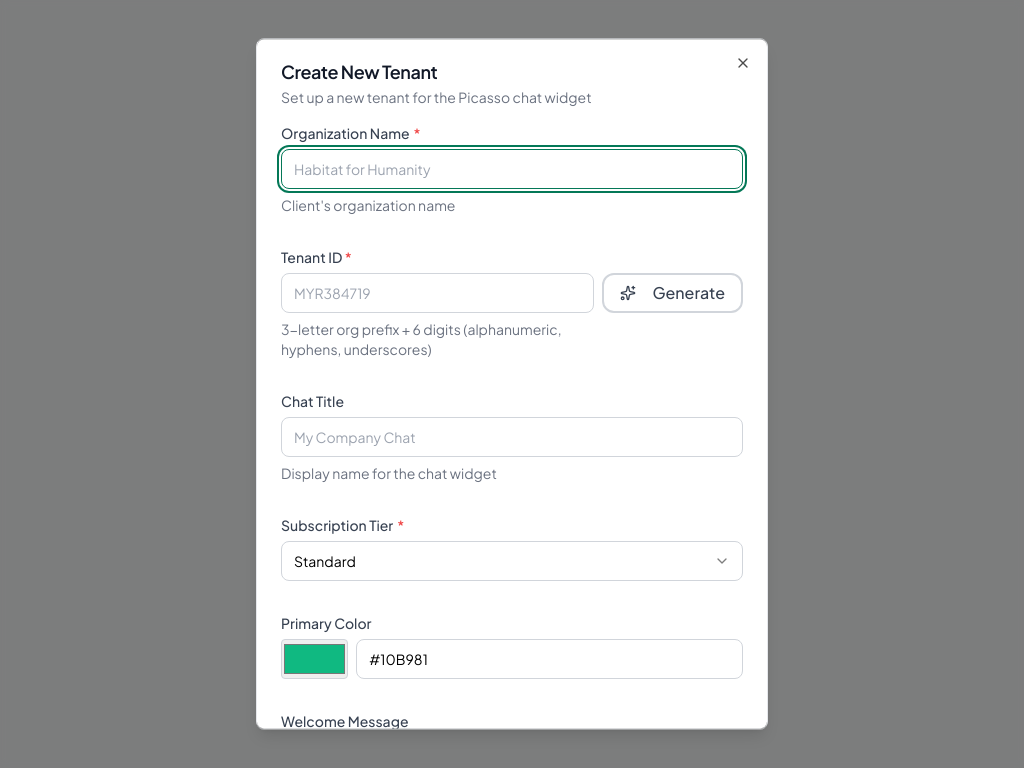
Test case: CreateTenantModal › submits form with valid data
Type "Test Org" into the field labelled "Organization Name*".
click(512, 169); type("Test Org")  # box [281,149,743,189]
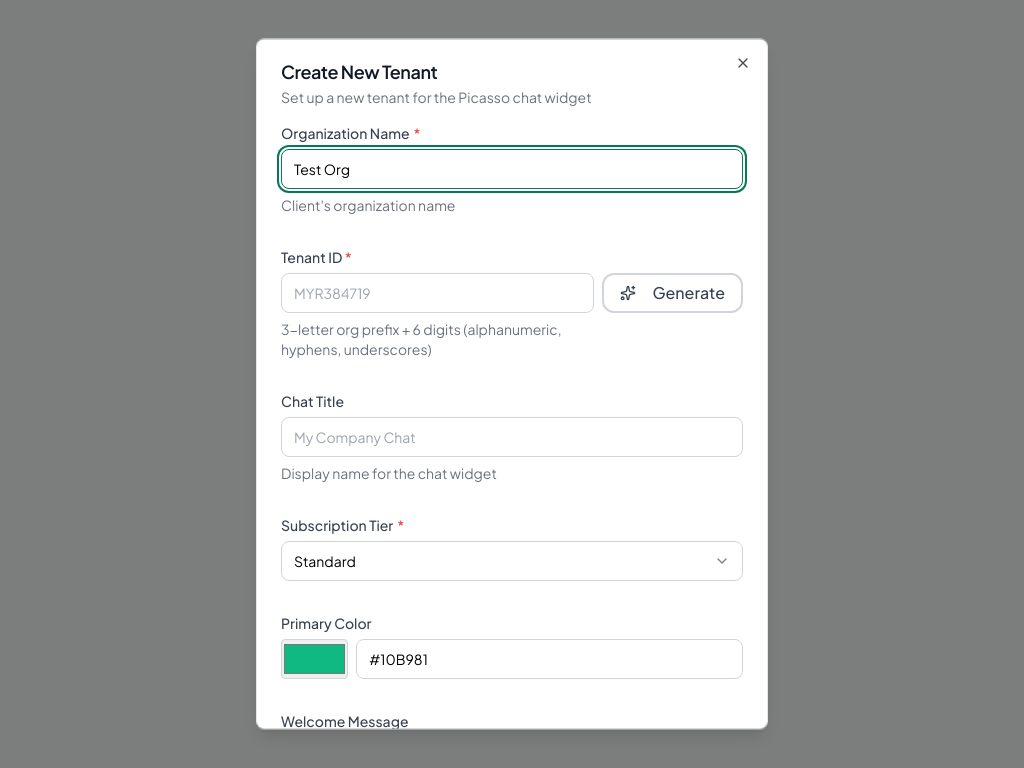
Type "test-tenant" into the field labelled "Tenant ID *".
click(438, 293); type("test-tenant")  # box [281,273,594,313]
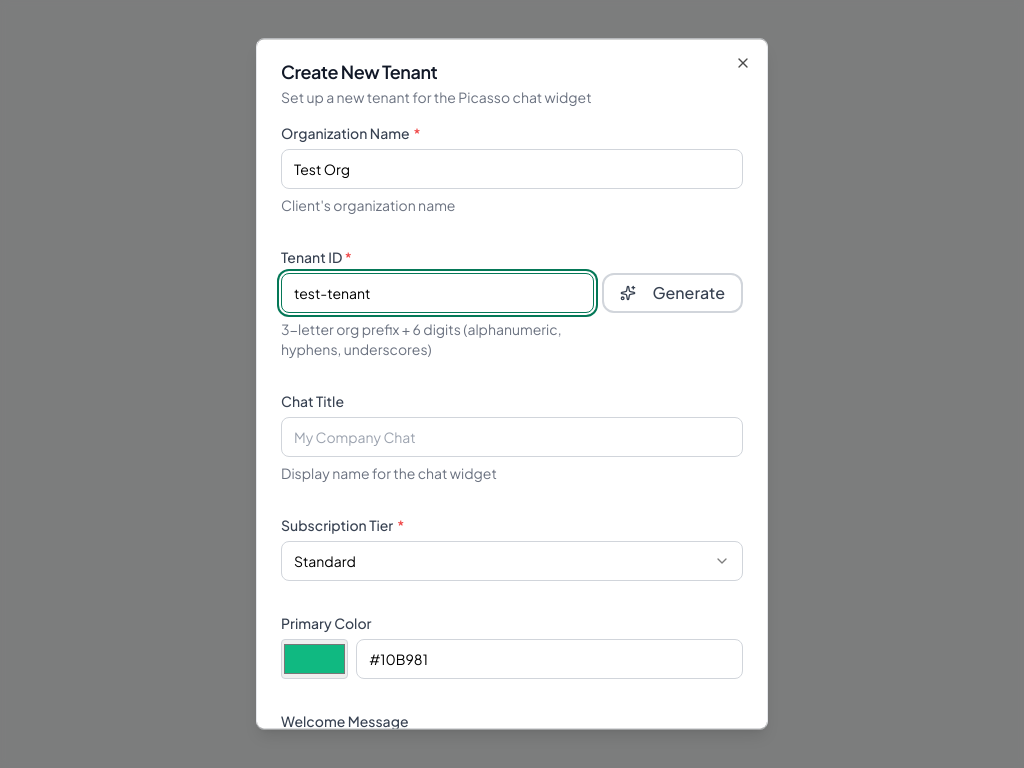
Type "Test Chat" into the field labelled "Chat Title".
click(512, 437); type("Test Chat")  # box [281,417,743,457]
(page scrolled)
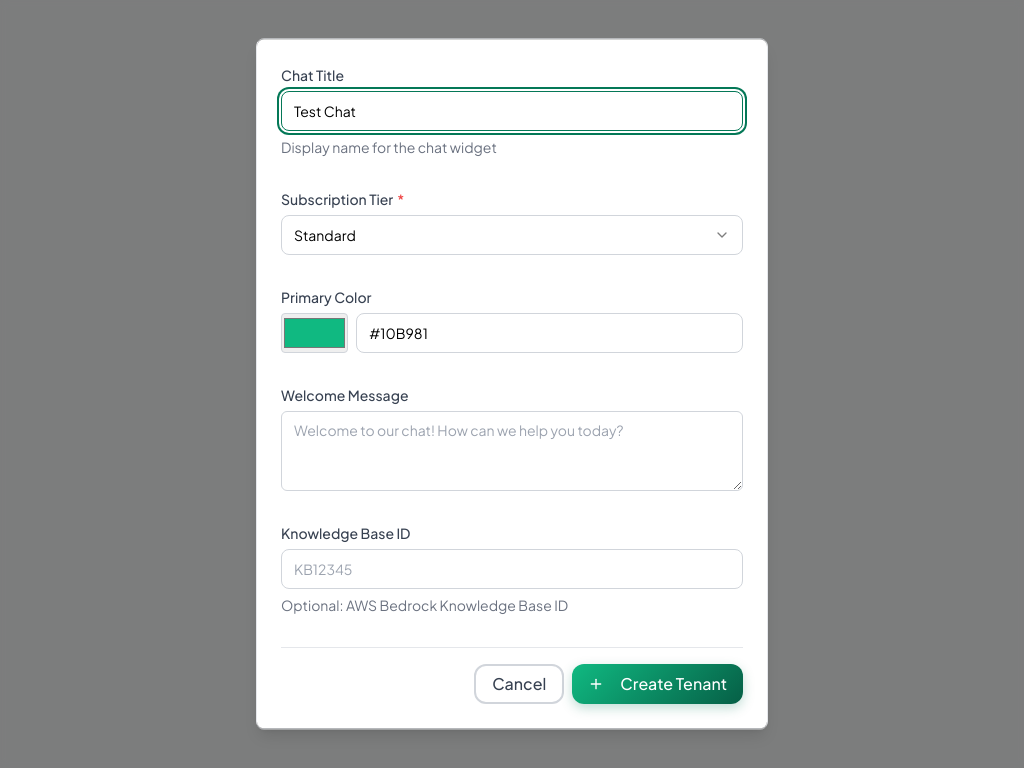
Click the button "Create Tenant".
click(658, 684)  # box [572,664,743,704]
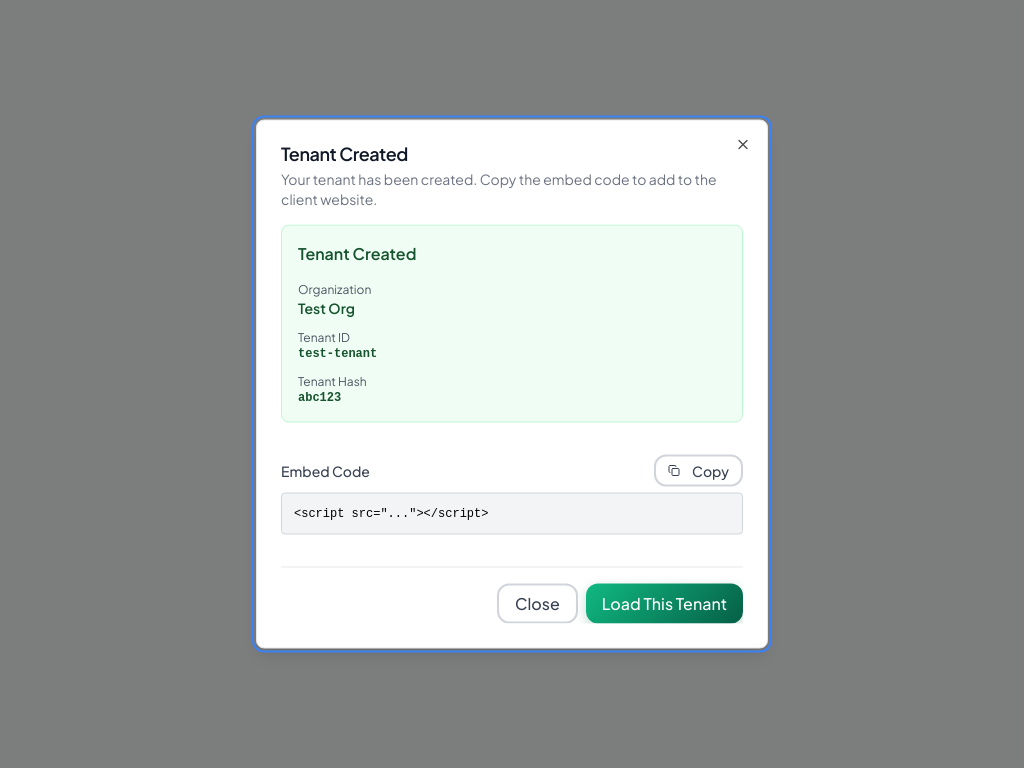
Expected: the text "abc123" is shown, [298,390,341,404]
